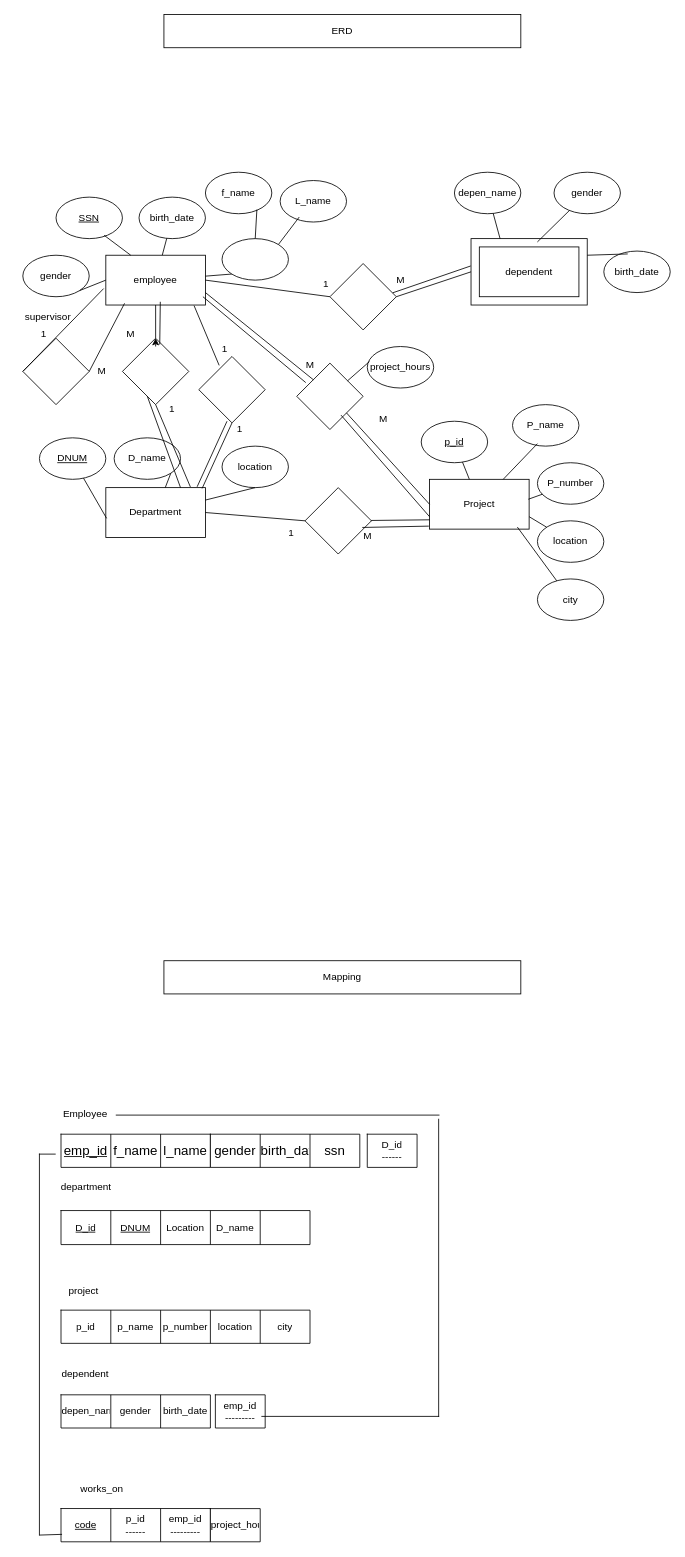
The diagram is 685 pixels wide and 1557 high, and some of its shapes have lost their labels. Here are the shapes that lost their labels. From the top down, the box of each, then its label:
(221, 238, 288, 280): Name
(329, 263, 396, 330): has
(22, 337, 89, 405): supervisie
(122, 337, 189, 405): work at
(198, 356, 265, 423): manage
(296, 362, 363, 430): work on
(304, 487, 371, 554): include
